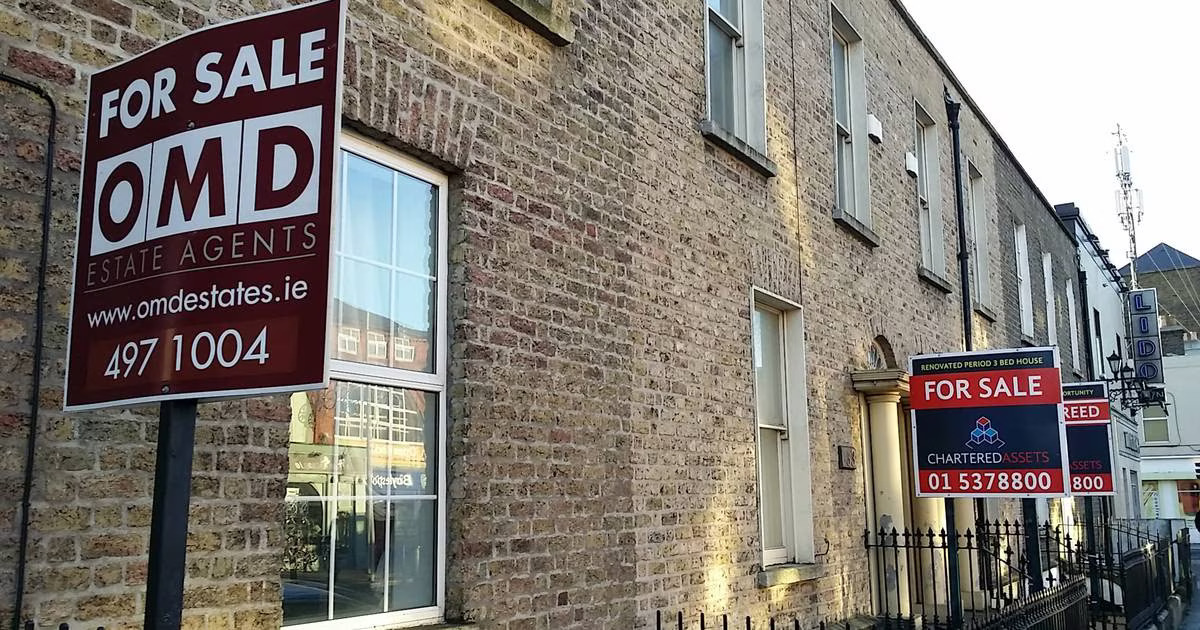property sign: (74, 3, 357, 431), (904, 332, 1072, 523)
